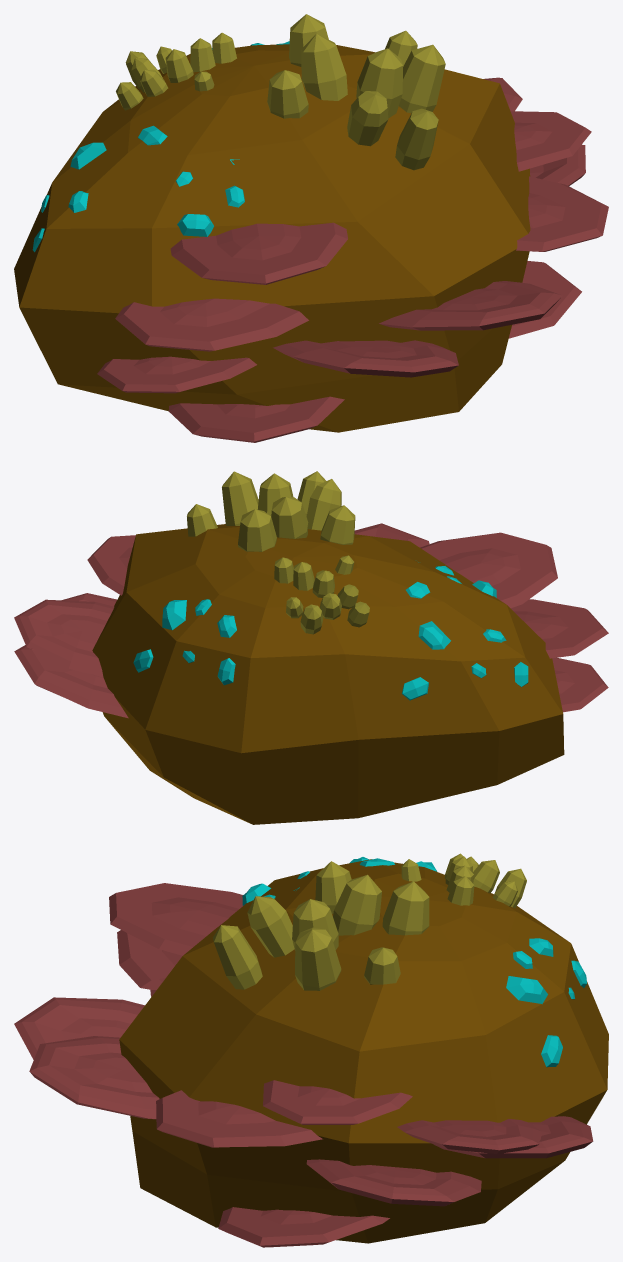
Rendered from Small rock.fbx.
3 views of the same model, one above another, from view 1: azimuth 30°, elevation 25°; view 2: azimuth 150°, elevation 25°; view 3: azimuth 270°, elevation 25° (orthographic). The views are drawn at different scales.
Parts seen in each view (by area): view 1: pSphere135; view 2: pSphere135; view 3: pSphere135.
Boxes of the visible parts, x1,y1,x2,y2 form: pSphere135: (14,14,608,442); pSphere135: (14,471,608,824); pSphere135: (14,853,608,1247).
Size of the model in its own units: 4.68 by 2.28 by 4.1.
